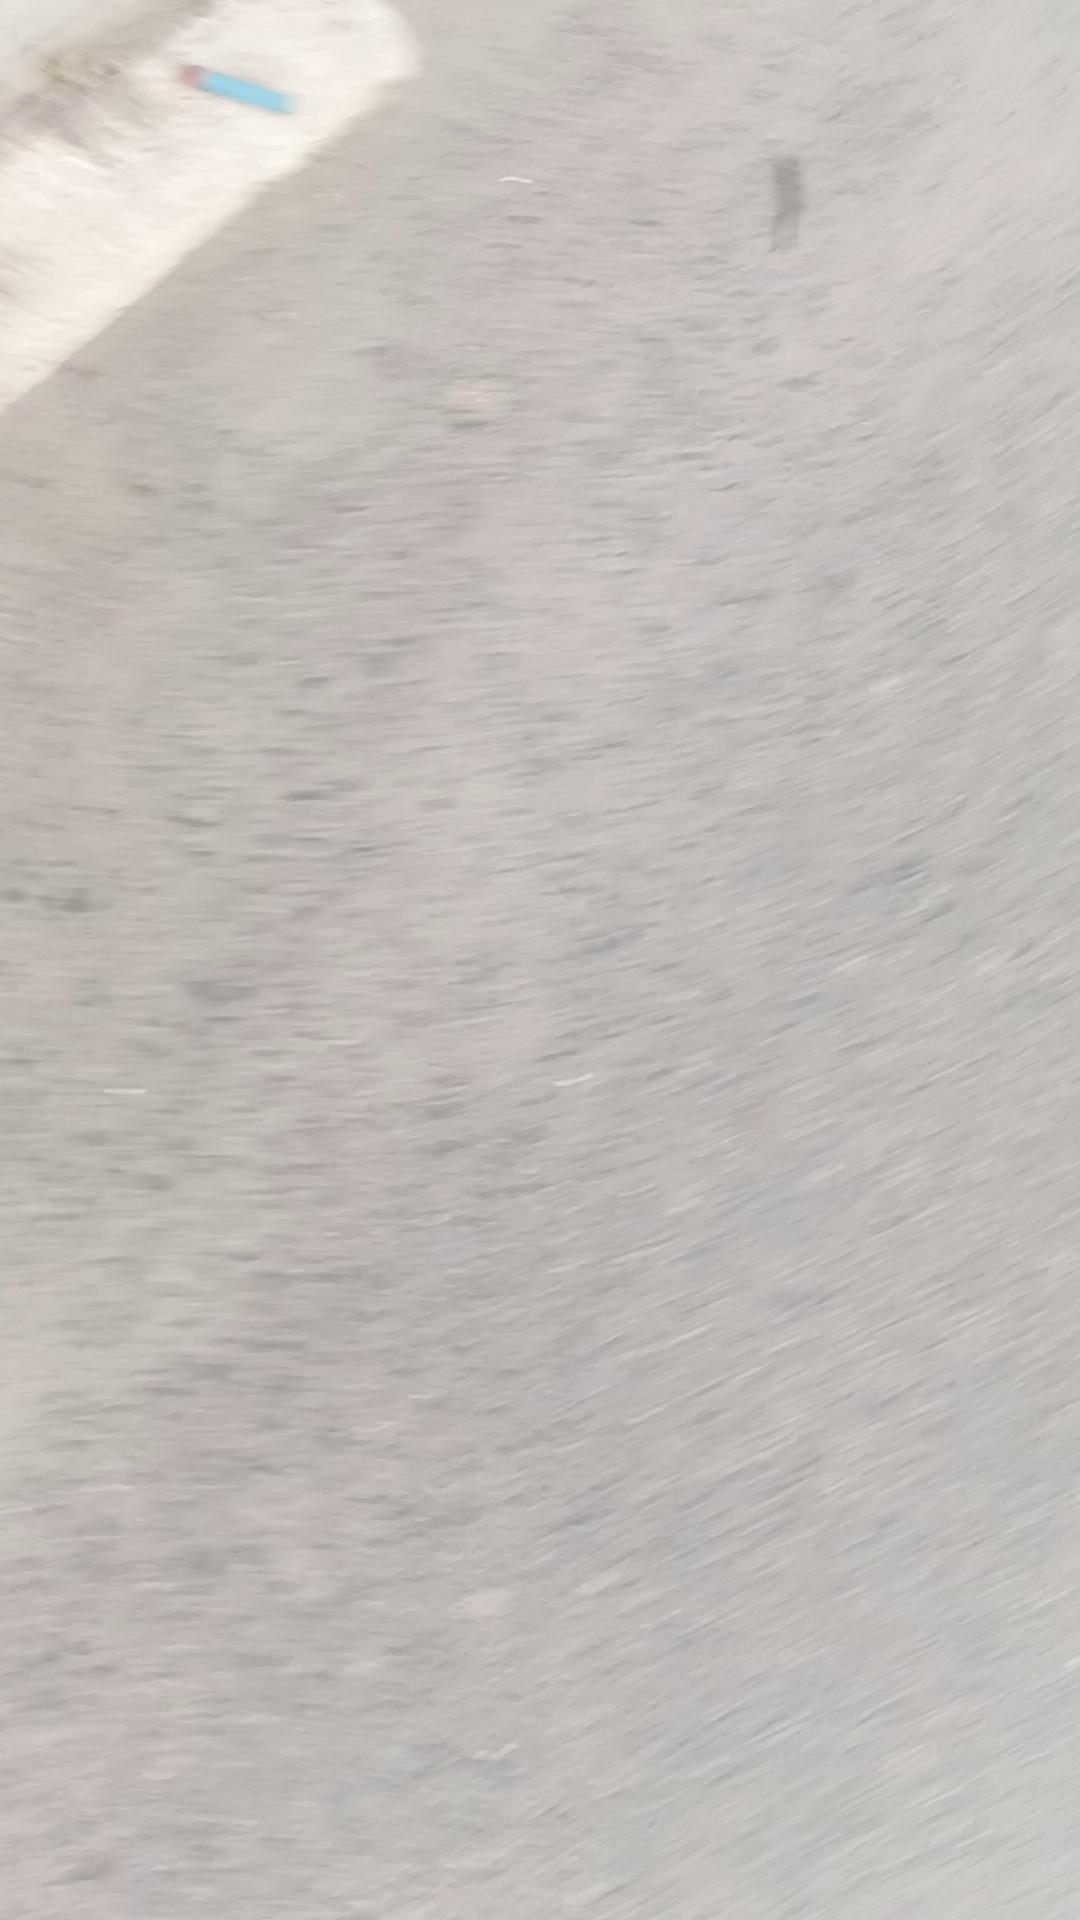Crosswalk: (175, 61, 295, 116)
